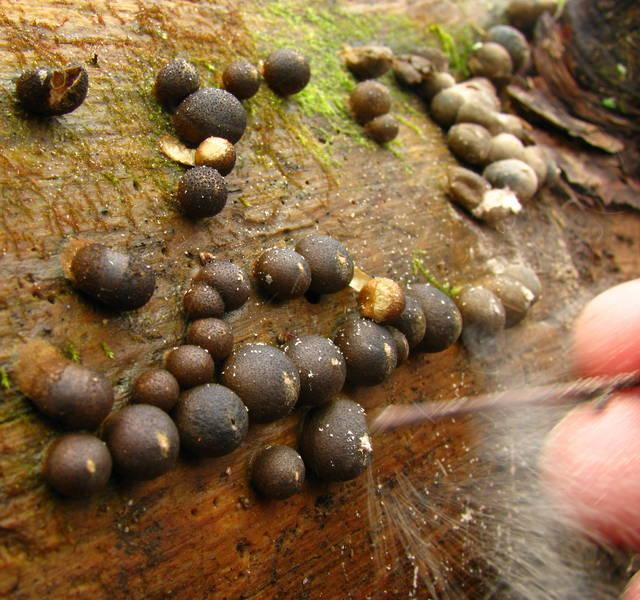Non-edible Mushroom: (57, 239, 497, 460), (347, 6, 547, 221), (64, 240, 155, 310), (42, 431, 112, 496), (170, 85, 247, 144), (12, 61, 88, 117), (294, 232, 354, 293), (247, 443, 306, 499), (252, 245, 311, 299), (175, 164, 227, 218), (262, 47, 310, 96), (153, 56, 199, 104), (193, 135, 236, 174), (221, 58, 260, 99)
